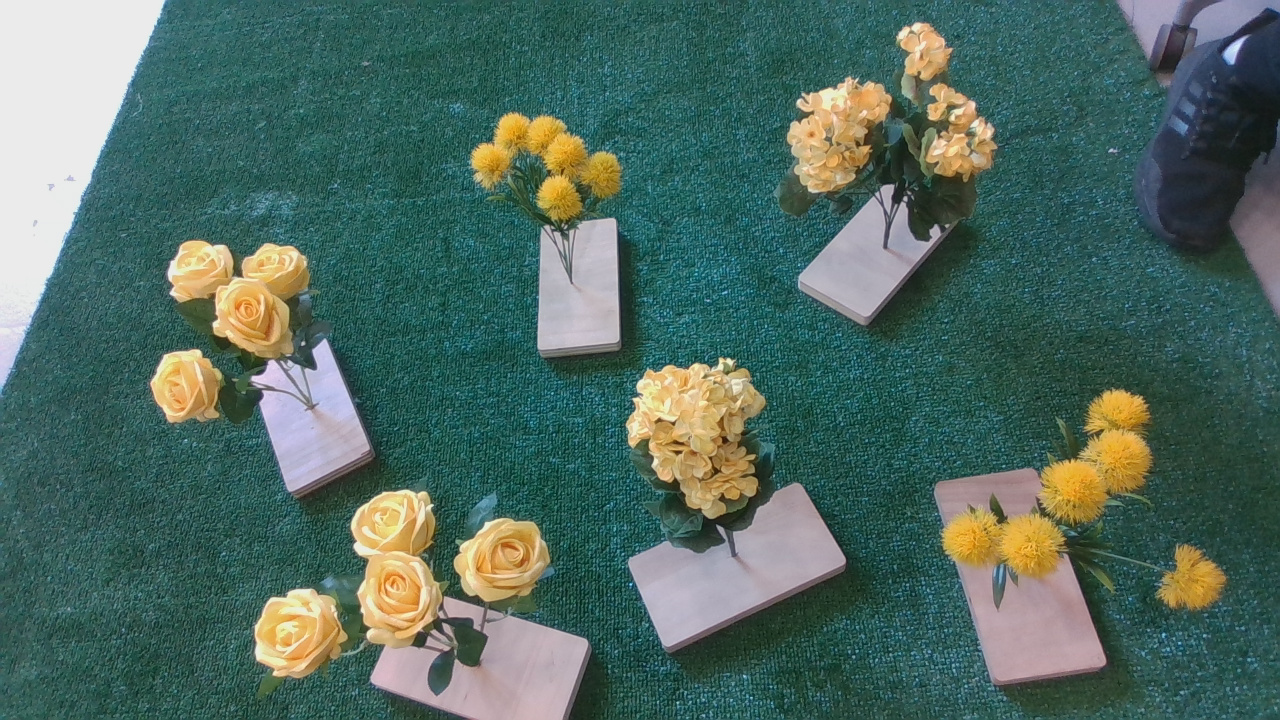dandelion: (939, 394, 1239, 640), (459, 108, 636, 238)
geranium: (774, 25, 1010, 256), (626, 355, 792, 569)
rose: (238, 489, 567, 704), (141, 240, 337, 432)
